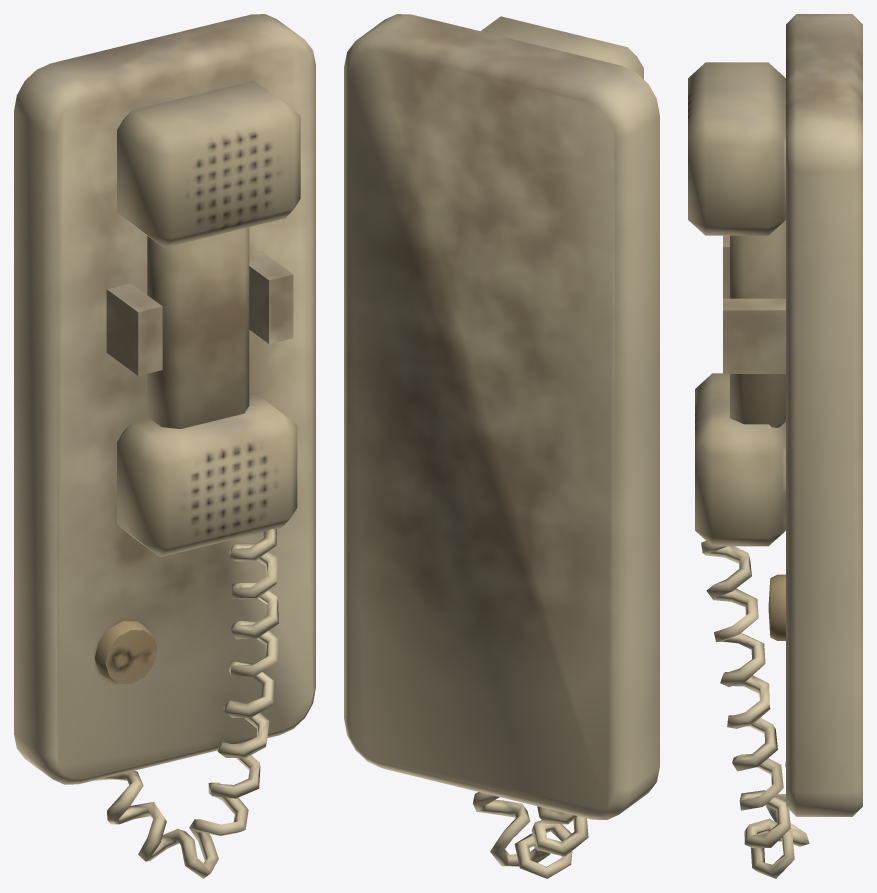
The model's file is intercom.glb.
3 views of the same model, side by side, from view 1: azimuth 30°, elevation 25°; view 2: azimuth 150°, elevation 25°; view 3: azimuth 270°, elevation 25° (orthographic). The views are drawn at different scales.
Visible parts, largest first — view 1: Intercom; view 2: Intercom; view 3: Intercom.
Part boxes in pixels (x1=…): Intercom: x1=14, y1=14, x2=315, y2=878; Intercom: x1=344, y1=14, x2=659, y2=878; Intercom: x1=688, y1=14, x2=862, y2=878.
Size of the model in its own units: 0.09 by 0.2533 by 0.05.
1 material, 1 textured.
